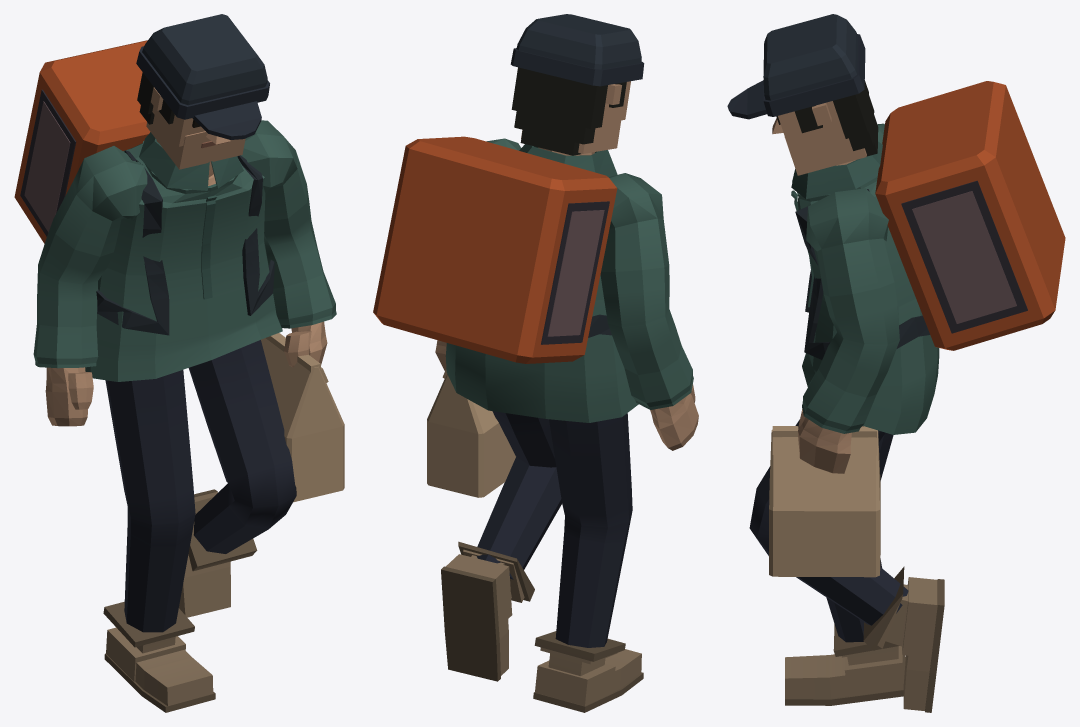
Rendered from delivery-courier-327e30__walk6.glb.
3 renders of one model, left to right at view 1: azimuth 30°, elevation 25°; view 2: azimuth 150°, elevation 25°; view 3: azimuth 270°, elevation 25°, orthographic. The views are drawn at different scales.
Visible parts, largest first — view 1: delivery-courier-327e30__walk6; view 2: delivery-courier-327e30__walk6; view 3: delivery-courier-327e30__walk6.
Boxes of the visible parts, x1,y1,x2,y2 form: delivery-courier-327e30__walk6: (14,14,344,712); delivery-courier-327e30__walk6: (373,14,698,712); delivery-courier-327e30__walk6: (727,14,1065,712).
Bounding box in the file's own units: 0.7738 × 1.76 × 0.7922.
